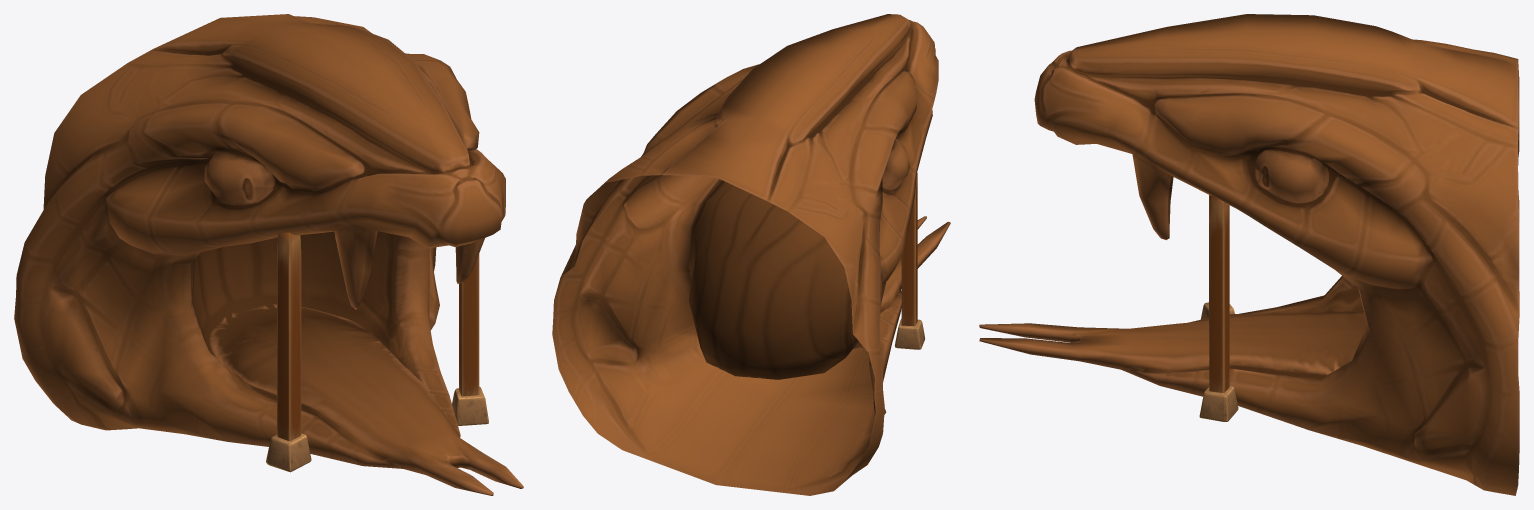
Rendered from snake.fbx.
3 renders of one model, left to right at view 1: azimuth 30°, elevation 25°; view 2: azimuth 150°, elevation 25°; view 3: azimuth 270°, elevation 25°, orthographic. The views are drawn at different scales.
Visible parts, largest first — view 1: snake, stone2_low007, stone2_low008, metal1_low001, metal1_low002; view 2: snake, stone2_low007, metal1_low001; view 3: snake, stone2_low008, metal1_low002.
Part boxes in pixels (left/top/right/bottom): snake: left=14, top=14, right=523, bottom=495; stone2_low007: left=277, top=232, right=301, bottom=441; stone2_low008: left=459, top=254, right=479, bottom=396; metal1_low001: left=266, top=433, right=311, bottom=472; metal1_low002: left=452, top=386, right=488, bottom=425; snake: left=552, top=14, right=950, bottom=495; stone2_low007: left=901, top=172, right=917, bottom=325; metal1_low001: left=895, top=318, right=925, bottom=349; snake: left=979, top=14, right=1519, bottom=495; stone2_low008: left=1209, top=195, right=1229, bottom=392; metal1_low002: left=1199, top=386, right=1238, bottom=421.
Bounding box in the file's own units: 10855 × 12928 × 11163.
